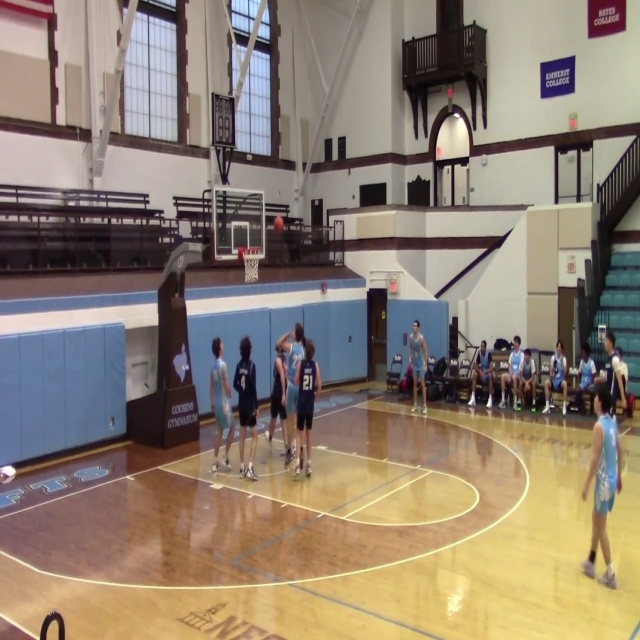Basketball: (0, 465, 16, 484), (273, 216, 284, 233), (1, 465, 15, 478)
